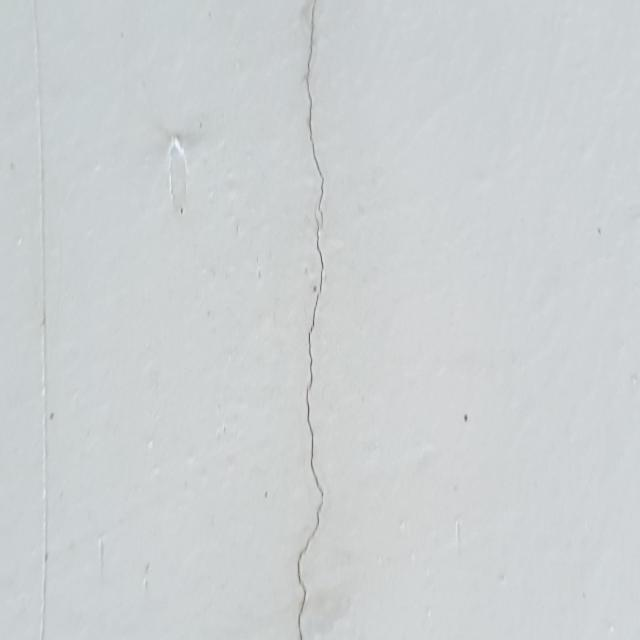SurfaceCrack: (243, 1, 379, 640)
